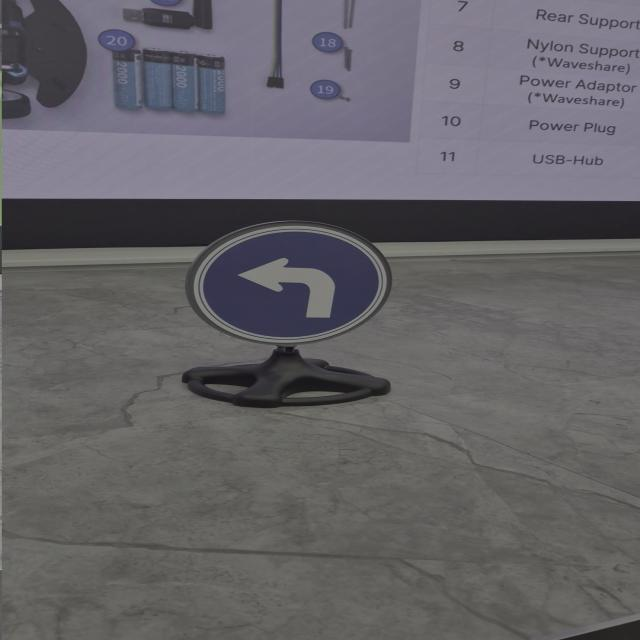left_direction: (170, 213, 428, 348)
